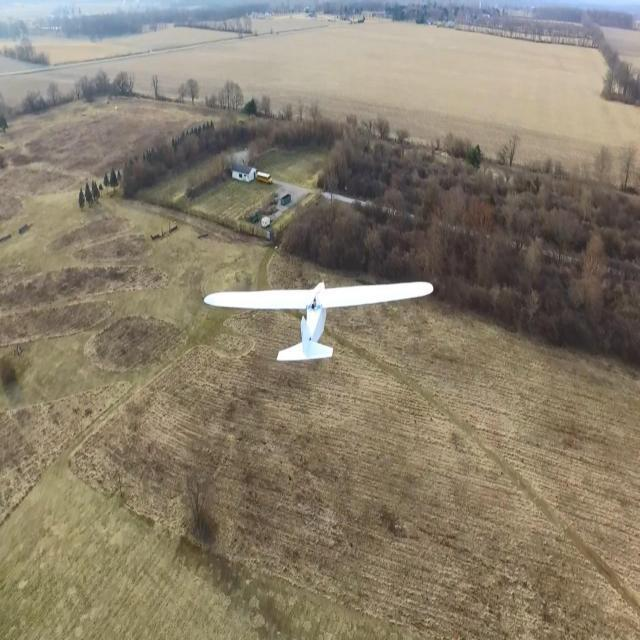iha: (196, 308, 437, 335)
